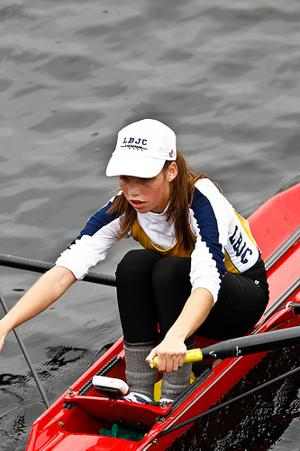person: (2, 115, 269, 374)
